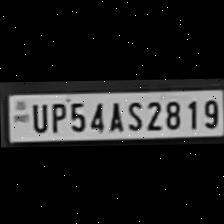1: (182, 97, 200, 128)
2: (142, 98, 162, 130)
4: (86, 98, 106, 132)
5: (66, 98, 86, 132)
8: (161, 97, 181, 128)
9: (199, 96, 221, 128)
A: (104, 98, 122, 130)
P: (46, 99, 64, 133)
S: (123, 98, 143, 130)
U: (27, 100, 47, 132)
